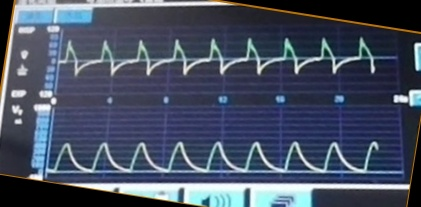Accumulation Flow: (63, 32, 388, 88)
Volume: (53, 132, 398, 180)
